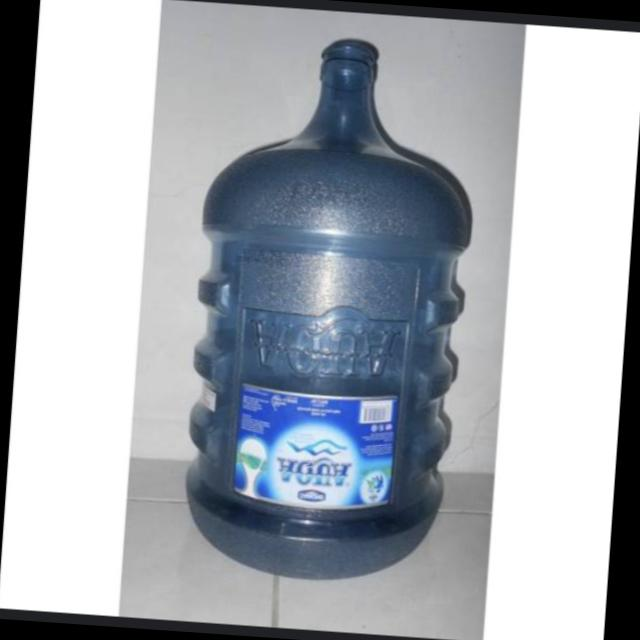Galon: (176, 27, 487, 566)
